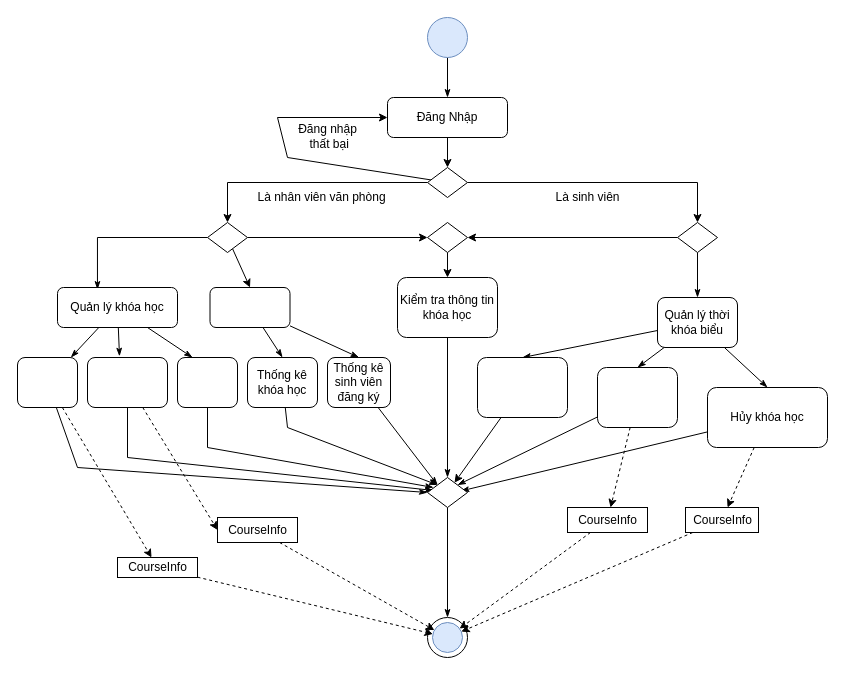
This 845x675 diagram has some shape labels left out. The shapes that lost their labels are listed below. From the top down, each one's centre as x and y in pixels, then its label:
At pixel 249 307: "In báo cáo".
At pixel 47 382: "Thêm khóa học".
At pixel 127 382: "Sửa thông tin khóa học".
At pixel 207 382: "Xóa khóa học".
At pixel 522 387: "Xem khóa học đã đăng ký".
At pixel 637 397: "Đăng ký khóa học".
